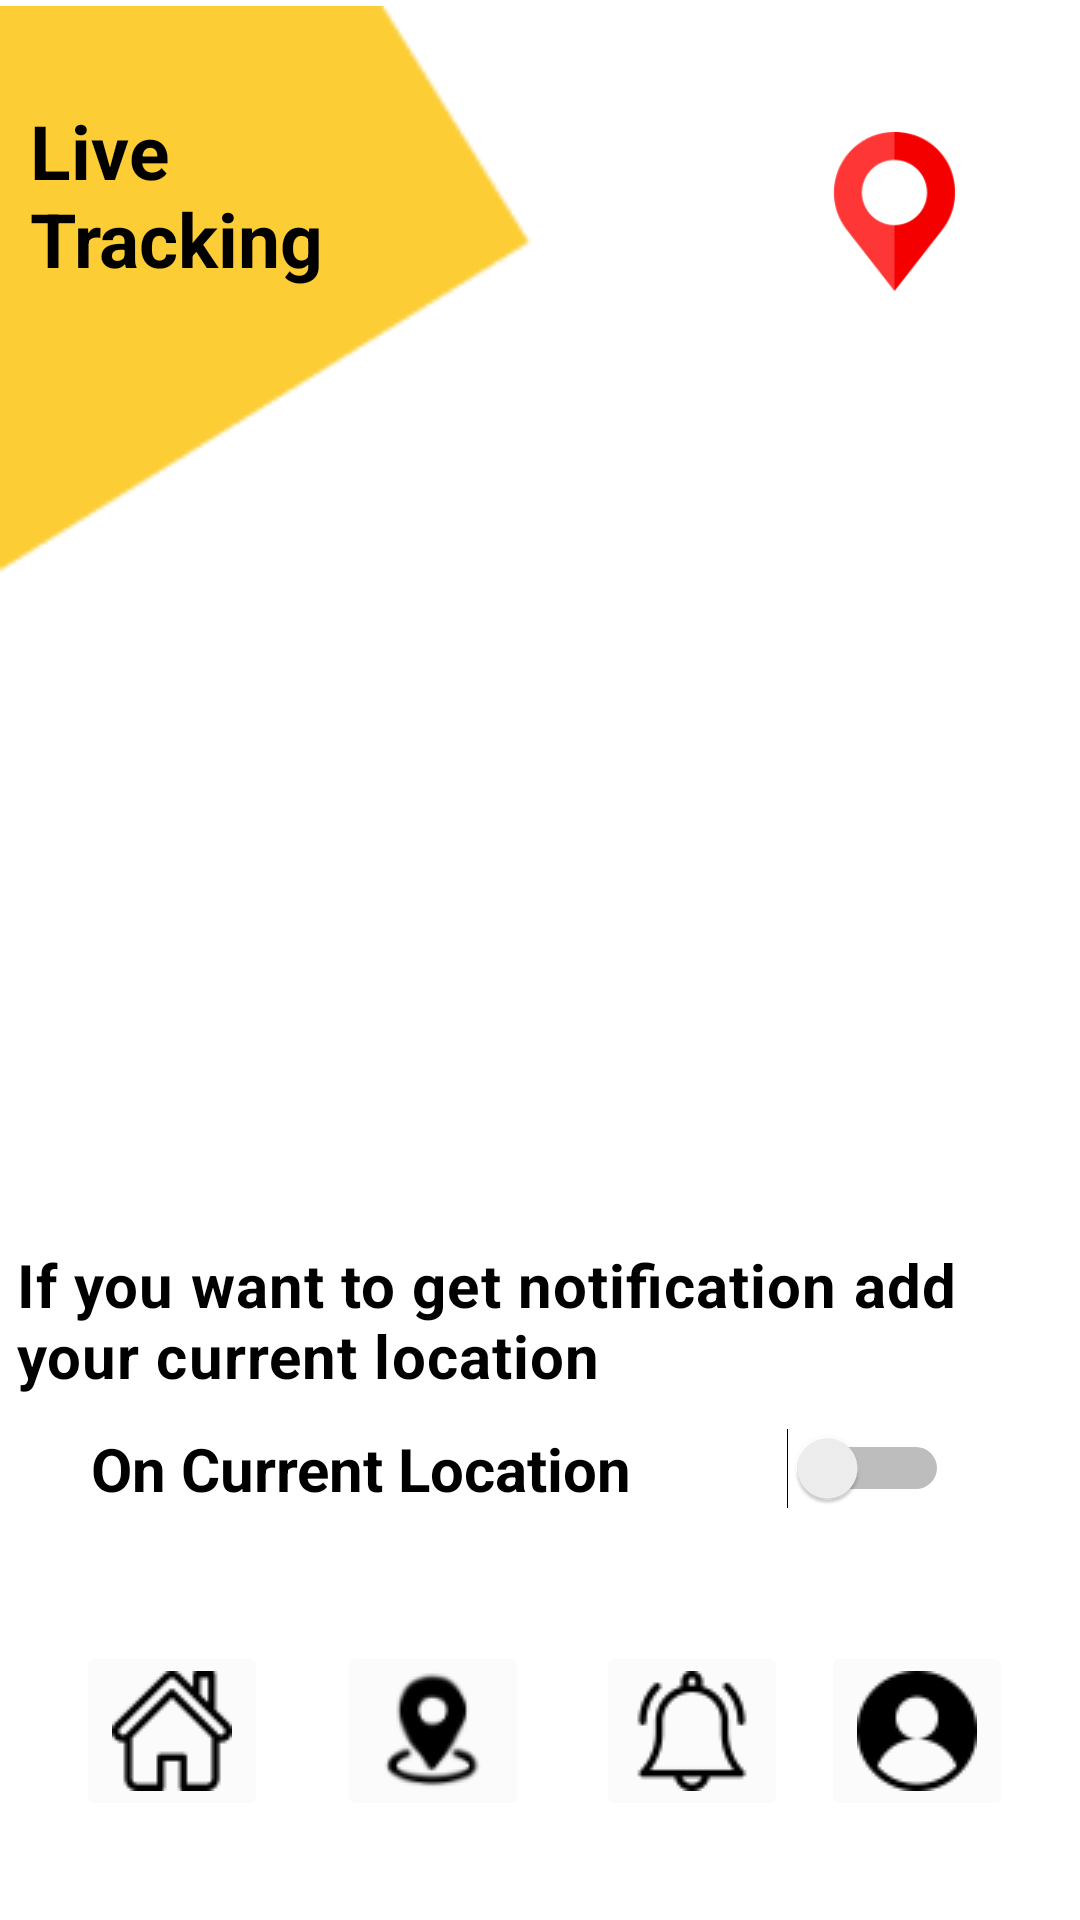

Screen size 1080px x 1920px. Icon name, then its box in pixels as rect(x1, y1, x2, y2):
belb: rect(637, 1671, 747, 1791)
homeb: rect(112, 1671, 232, 1791)
pini: rect(834, 132, 955, 291)
userb: rect(857, 1671, 977, 1791)
